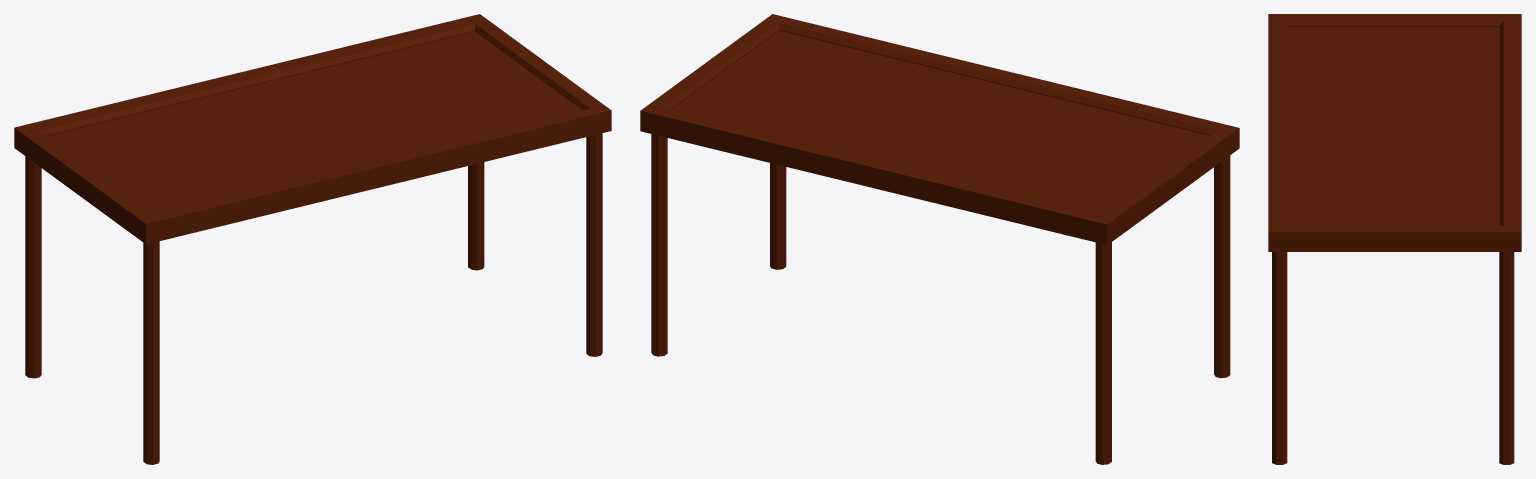
The model's file is Table.fbx.
3 views of the same model, side by side, from view 1: azimuth 30°, elevation 25°; view 2: azimuth 150°, elevation 25°; view 3: azimuth 270°, elevation 25° (orthographic). The views are drawn at different scales.
Parts seen in each view (by area): view 1: Table; view 2: Table; view 3: Table.
Boxes of the visible parts, bbox=[...] form: Table: bbox=[14, 14, 611, 464]; Table: bbox=[640, 14, 1239, 464]; Table: bbox=[1268, 14, 1521, 464].
Size of the model in its own units: 130 by 65.13 by 63.61.
